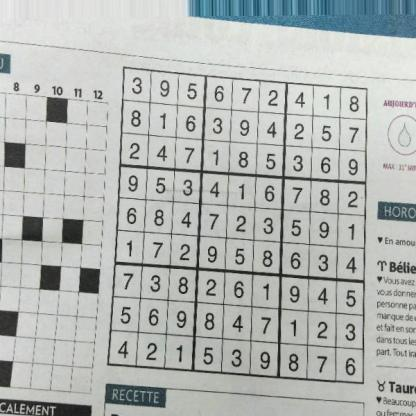sudoku: (106, 59, 370, 389)
